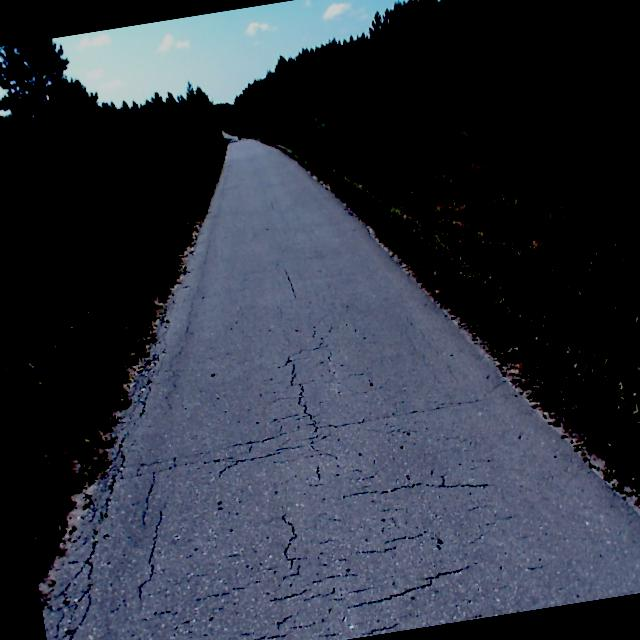road: (41, 140, 640, 640)
